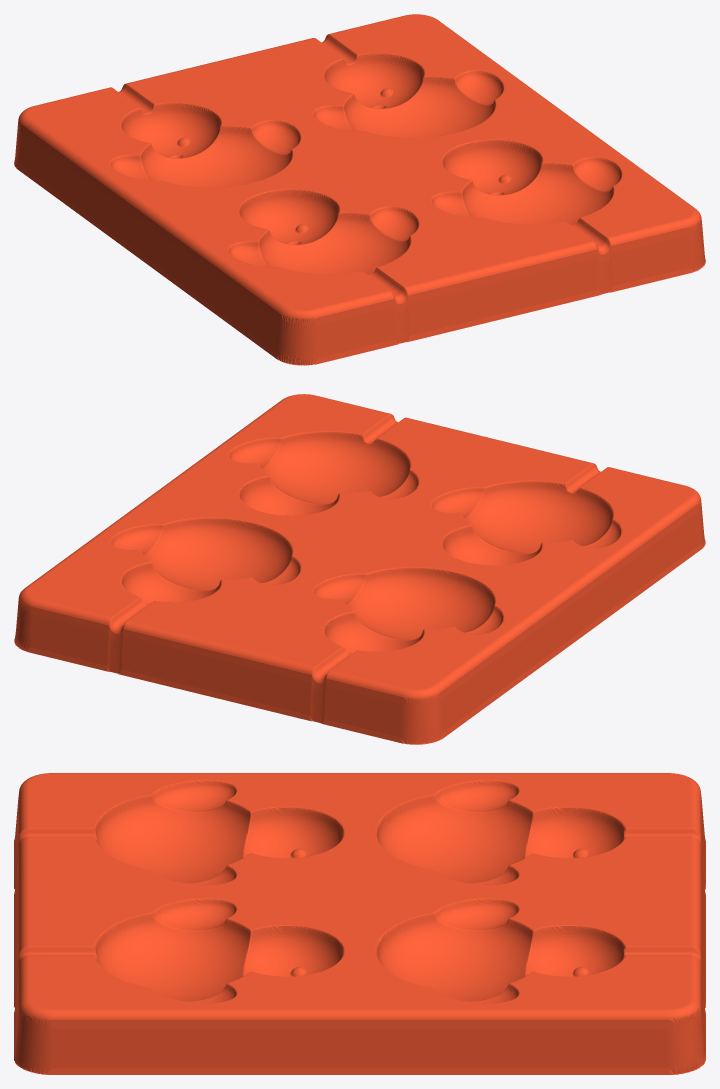
The model's file is mold.glb.
3 views of the same model, one above another, from view 1: azimuth 30°, elevation 25°; view 2: azimuth 150°, elevation 25°; view 3: azimuth 270°, elevation 25° (orthographic). The views are drawn at different scales.
Parts seen in each view (by area): view 1: geometry_0; view 2: geometry_0; view 3: geometry_0.
Boxes of the visible parts, x1=… form: geometry_0: x1=14, y1=14, x2=705, y2=365; geometry_0: x1=14, y1=394, x2=705, y2=744; geometry_0: x1=14, y1=773, x2=705, y2=1074.
Size of the model in its own units: 0.1385 by 0.0155 by 0.1633.
